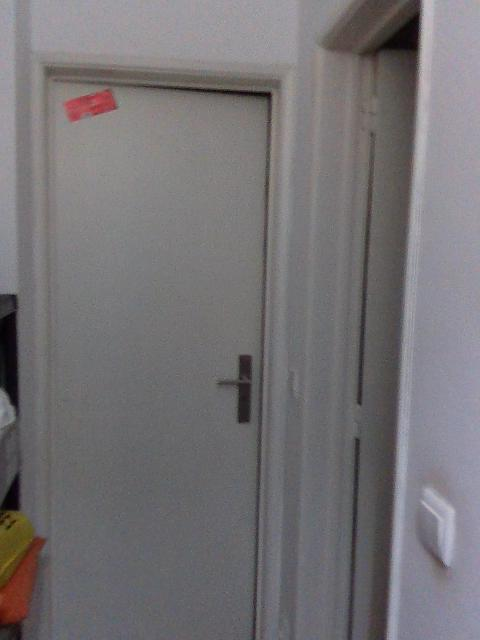door: (50, 84, 264, 640)
